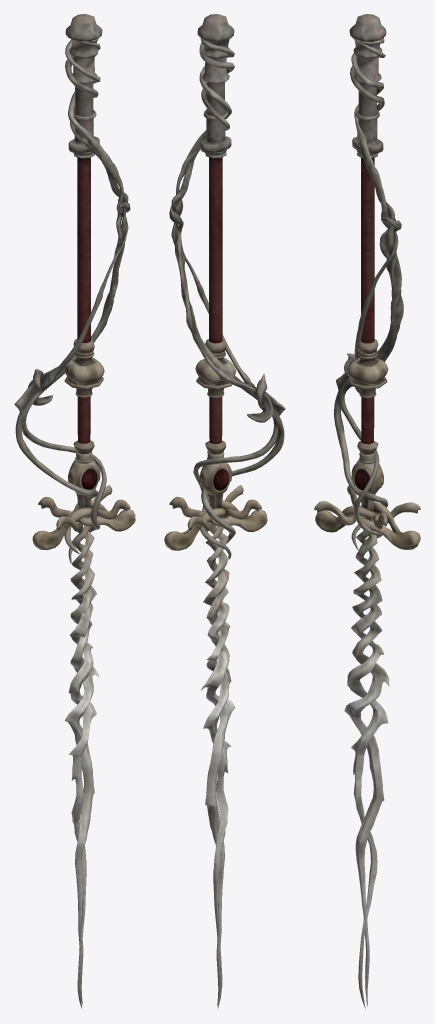
File: weapon-wp_a_0306.glb
3 views of the same model, side by side, from view 1: azimuth 30°, elevation 25°; view 2: azimuth 210°, elevation 25°; view 3: azimuth 330°, elevation 25° (orthographic).
Visible parts, largest first — view 1: wp_a_0306_mesh; view 2: wp_a_0306_mesh; view 3: wp_a_0306_mesh.
Part boxes in pixels (x1=…): wp_a_0306_mesh: x1=14, y1=14, x2=135, y2=1008; wp_a_0306_mesh: x1=164, y1=14, x2=285, y2=1009; wp_a_0306_mesh: x1=314, y1=14, x2=420, y2=1008.
Bounding box in the file's own units: 0.2594 × 2.4 × 0.1651.
Materials: 2 (2 with a texture image).
